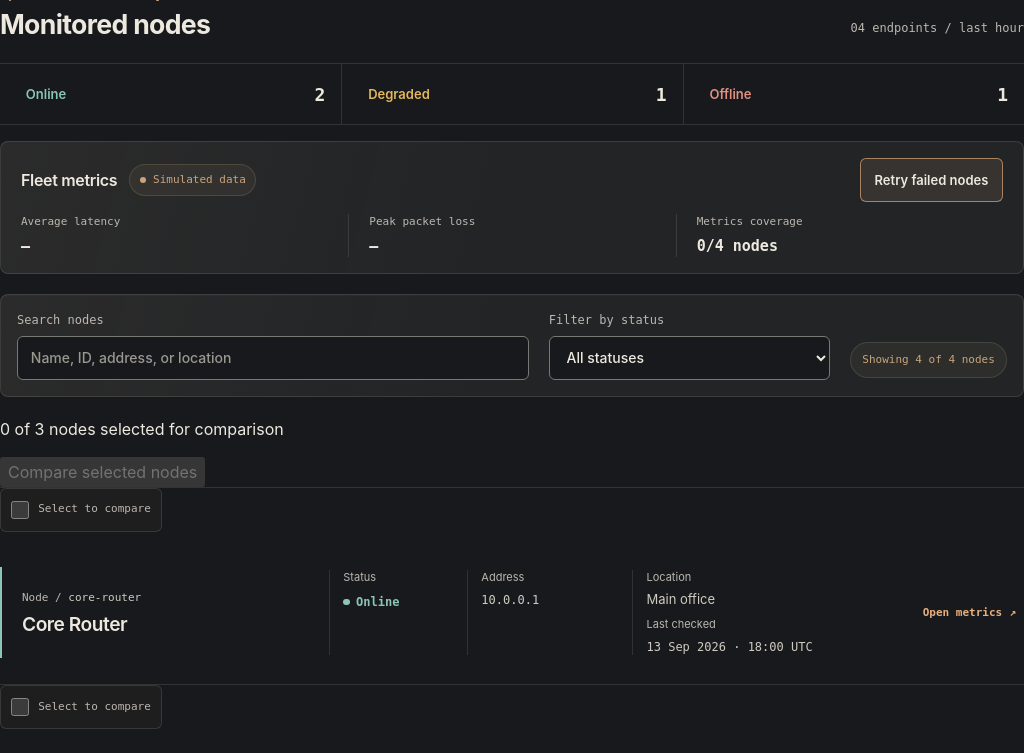
Test: NetworkNodesPanel › blocks selecting more than three nodes
Click the checkbox named "Select Core Router for comparison".
click(20, 510)  # box [11,500,29,518]
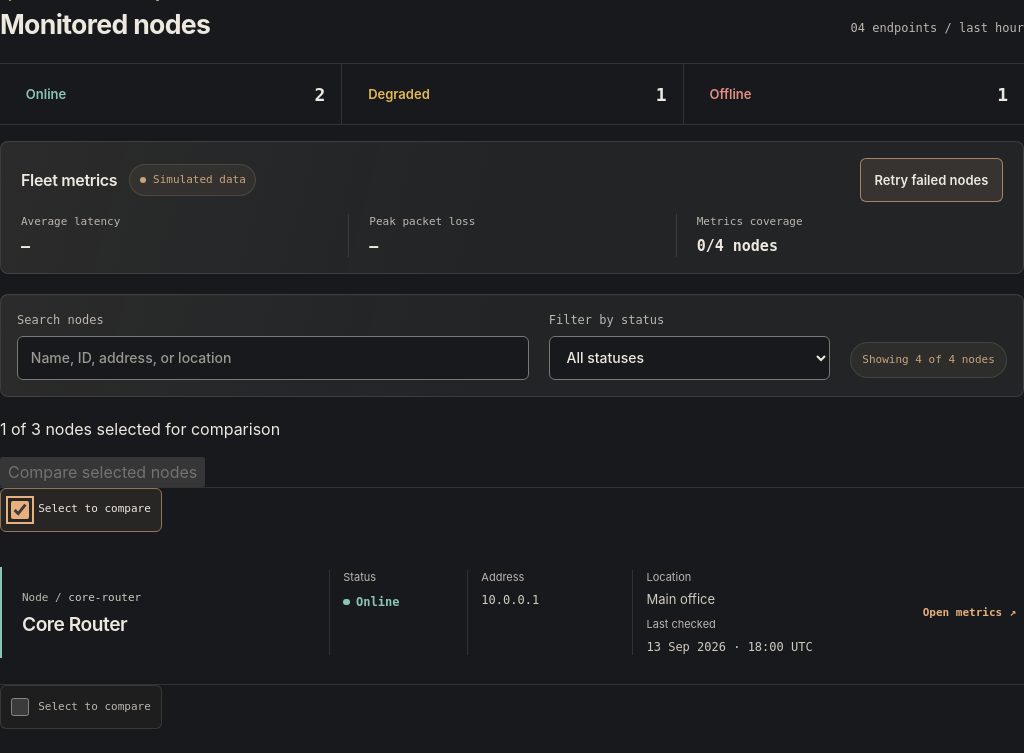
Click the checkbox named "Select Access Switch 01 for comparison".
click(20, 707)  # box [11,698,29,716]
(page scrolled)
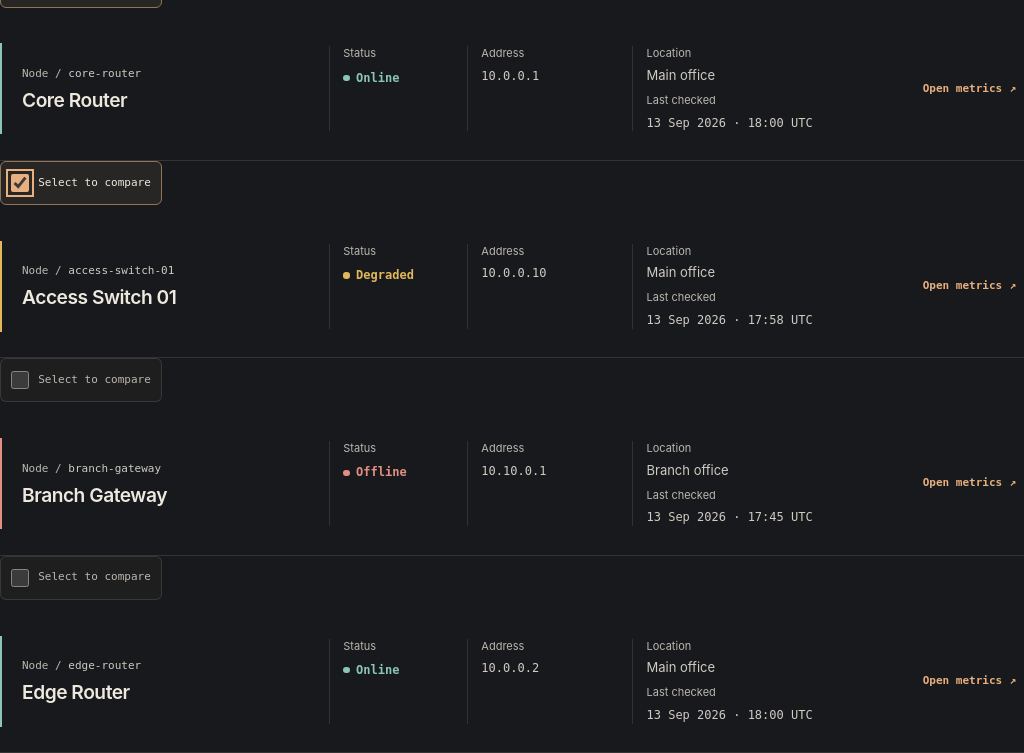
Click the checkbox named "Select Branch Gateway for comparison".
click(20, 380)  # box [11,371,29,389]
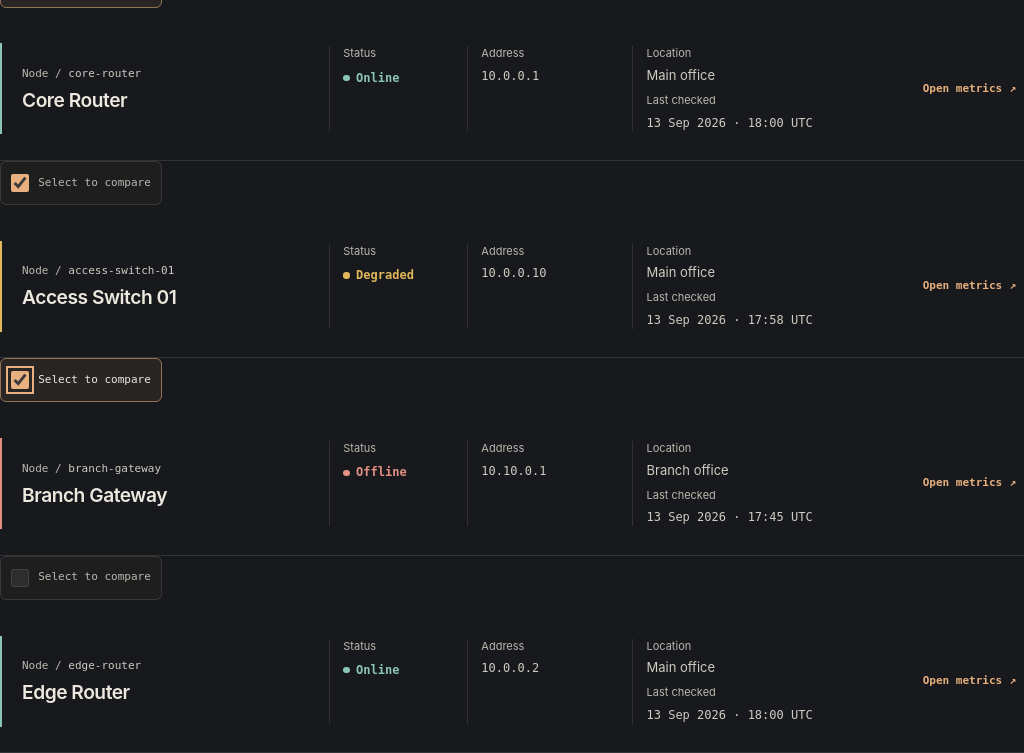
Result: the checkbox named "Select Access Switch 01 for comparison" is checked at [11,174,29,192]
Result: the checkbox named "Select Branch Gateway for comparison" is checked at [11,371,29,389]
Result: the checkbox named "Select Edge Router for comparison" is disabled at [11,569,29,587]
